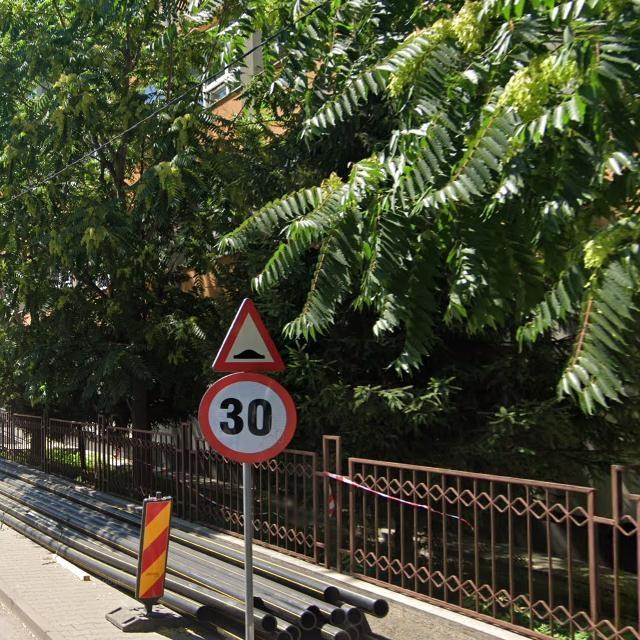forb_speed_over_30: (199, 373, 299, 464)
